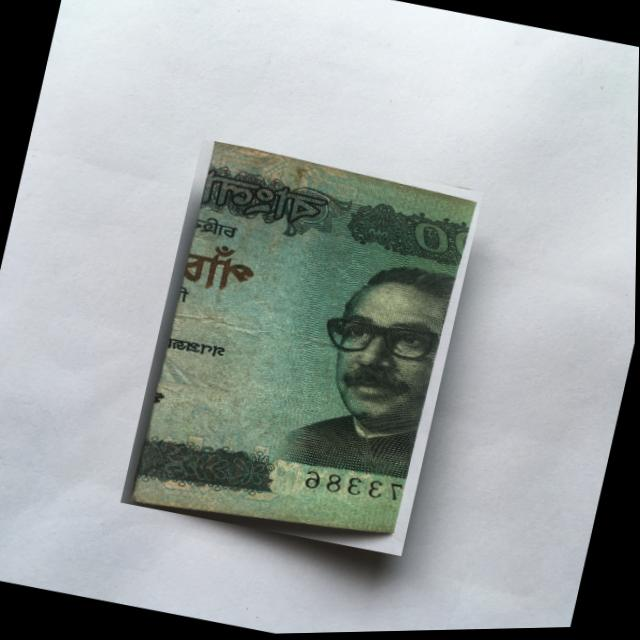Taka: (120, 135, 484, 563)
